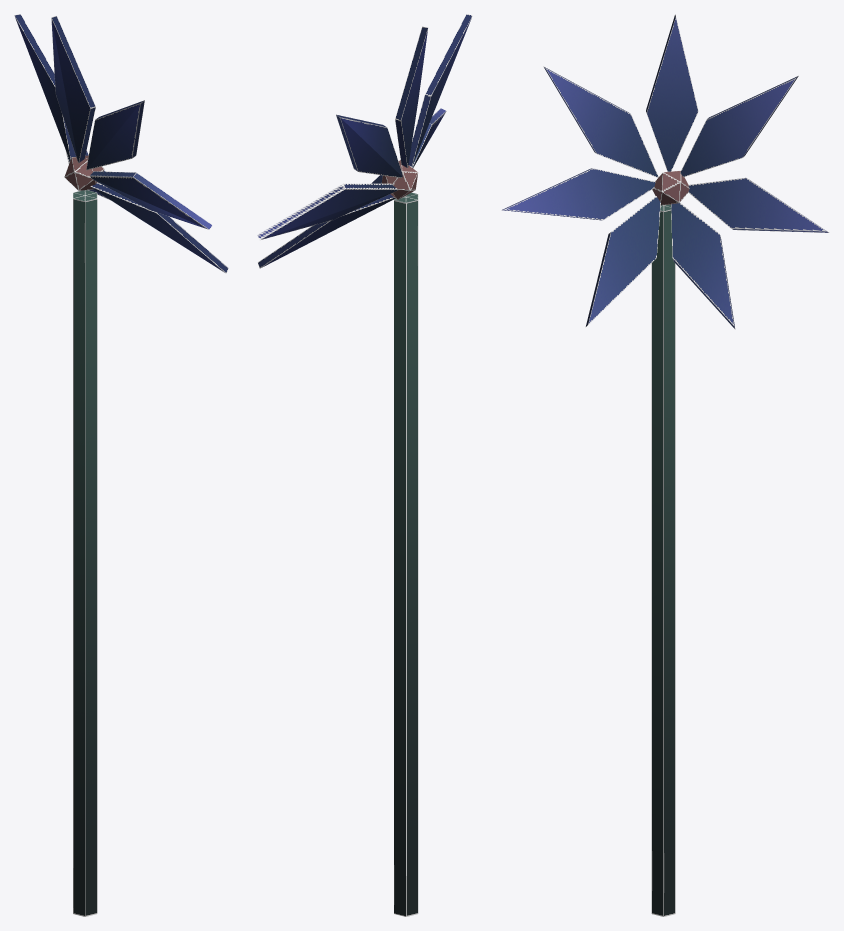
File: Flor 2.obj
3 views of the same model, side by side, from view 1: azimuth 30°, elevation 25°; view 2: azimuth 150°, elevation 25°; view 3: azimuth 270°, elevation 25° (orthographic).
Parts seen in each view (by area): view 1: Flor 2; view 2: Flor 2; view 3: Flor 2.
Boxes of the visible parts, left/top/right/bottom form: Flor 2: left=14, top=14, right=228, bottom=916; Flor 2: left=257, top=14, right=472, bottom=916; Flor 2: left=501, top=14, right=829, bottom=916.
Size of the model in its own units: 0.1265 by 0.7682 by 0.2587.
1 material, 1 textured.
